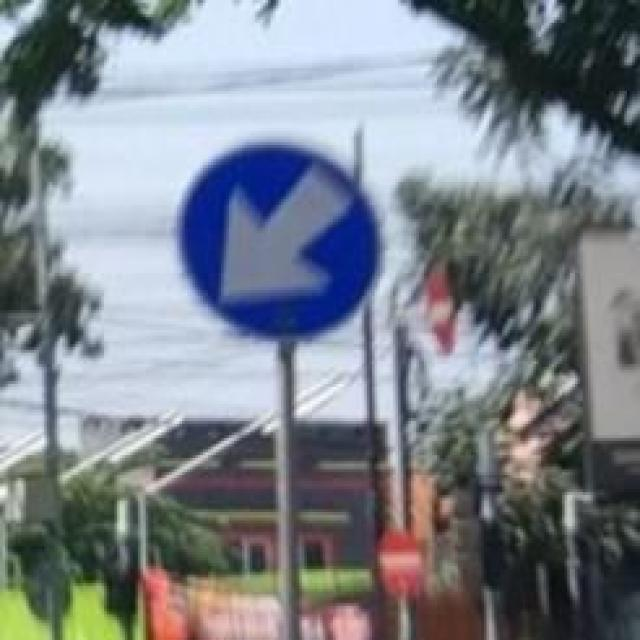traffic sign: (185, 148, 375, 333)
